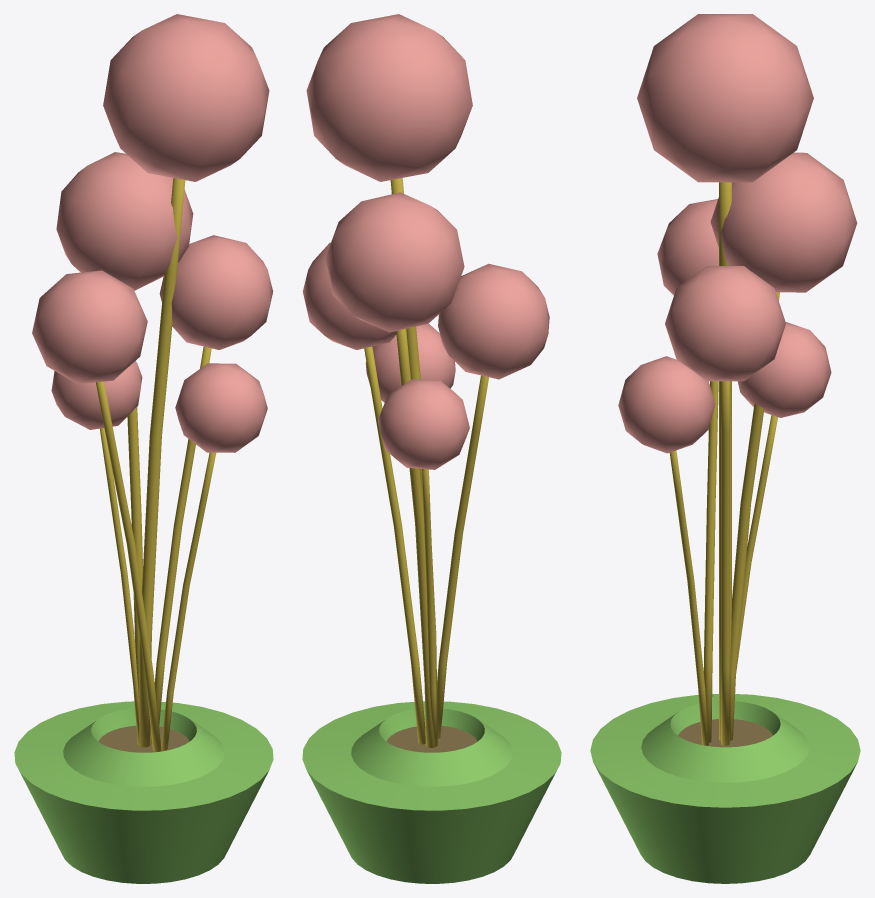
File: Plant.4.fbx
3 renders of one model, left to right at view 1: azimuth 30°, elevation 25°; view 2: azimuth 150°, elevation 25°; view 3: azimuth 270°, elevation 25°, orthographic. The views are drawn at different scales.
Visible parts, largest first — view 1: Esfera icosaédrica, VPlanta, Cilindro, Círculo; view 2: Esfera icosaédrica, VPlanta, Cilindro, Círculo; view 3: Esfera icosaédrica, VPlanta, Cilindro, Círculo.
Boxes of the visible parts, x1=… form: Esfera icosaédrica: x1=32, y1=14, x2=273, y2=452; VPlanta: x1=14, y1=701, x2=273, y2=883; Cilindro: x1=96, y1=178, x2=216, y2=751; Círculo: x1=98, y1=725, x2=189, y2=752; Esfera icosaédrica: x1=302, y1=14, x2=549, y2=469; VPlanta: x1=302, y1=701, x2=561, y2=883; Cilindro: x1=364, y1=178, x2=488, y2=747; Círculo: x1=386, y1=726, x2=477, y2=752; Esfera icosaédrica: x1=618, y1=14, x2=857, y2=453; VPlanta: x1=590, y1=694, x2=860, y2=883; Cilindro: x1=669, y1=182, x2=779, y2=745; Círculo: x1=678, y1=719, x2=772, y2=747.
Bounding box in the file's own units: 132 × 443 × 127.
